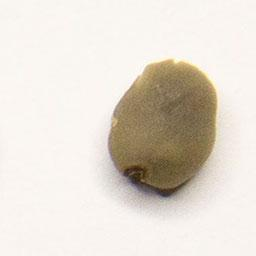peaberry: (104, 55, 221, 195)
